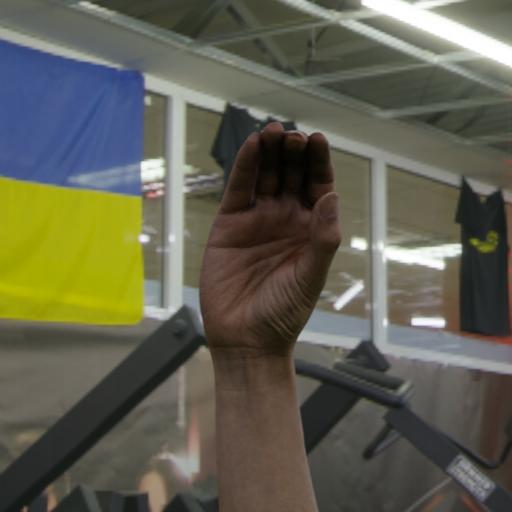C: (188, 110, 350, 397)
